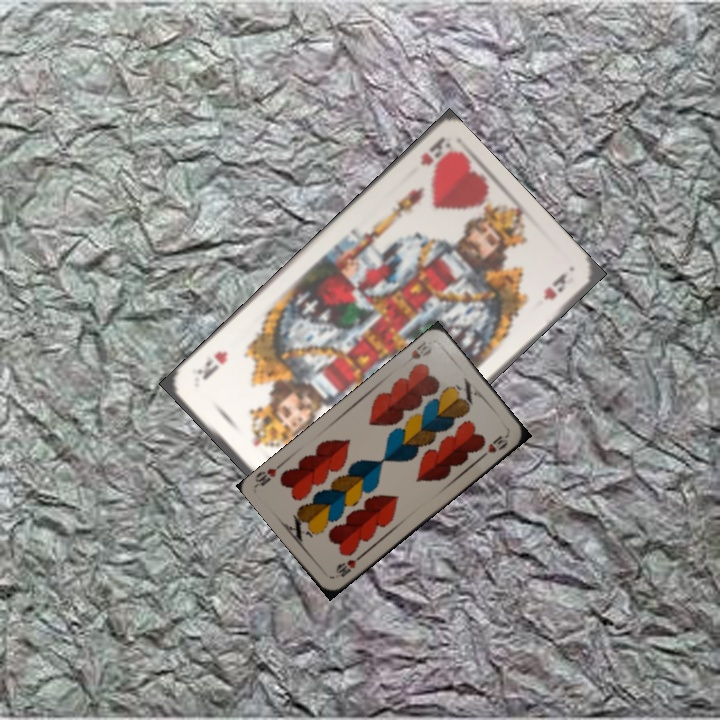H10: (331, 551, 365, 580), (403, 337, 435, 366)
HK: (416, 135, 453, 169)
